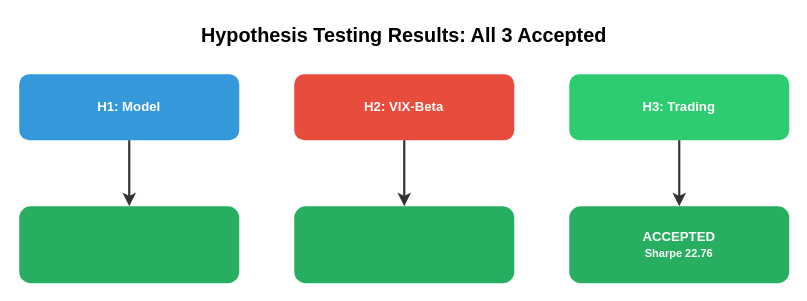
This 807x301 diagram has some shape labels left out. Each missing label, with the box of its shape:
ACCEPTED r = -0.87: (294, 206, 514, 283)
ACCEPTED R²: 0.44 > 0.37: (19, 206, 239, 283)
